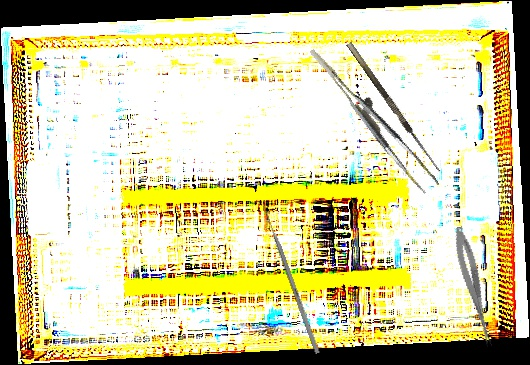Hook Surgical: (346, 37, 448, 174)
Micro Scissor: (449, 225, 500, 348)
Pusher: (260, 202, 321, 355)
Tissue Forceps: (309, 31, 440, 205)
